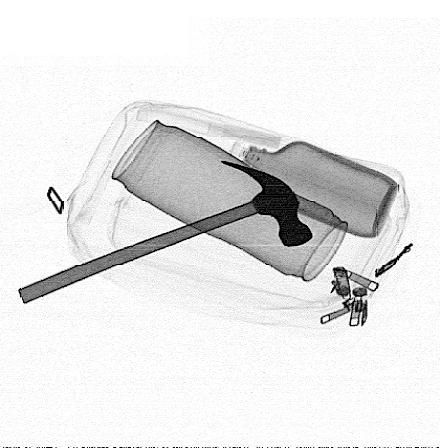Hammer: (18, 159, 314, 304)
